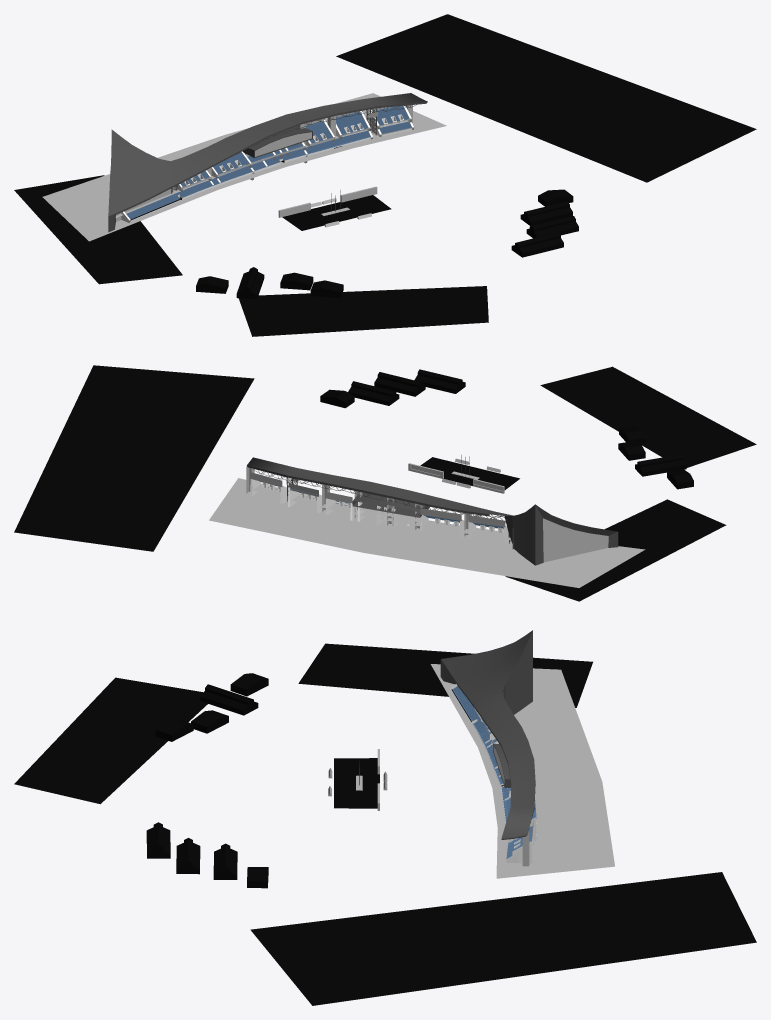
The model's file is buildings.fbx.
3 views of the same model, one above another, from view 1: azimuth 30°, elevation 25°; view 2: azimuth 150°, elevation 25°; view 3: azimuth 270°, elevation 25° (orthographic). The views are drawn at different scales.
Parts seen in each view (by area): view 1: track4, track2, roof_01, track3, floor, track5, house_1, house_4, glass, house_2, ads_gp, house_5 (+2 smaller); view 2: track4, floor, track2, track3, roof_01, glass, ads_gp, track5, roof_02, house_5, house_2, house_4 (+6 smaller); view 3: track4, floor, track2, roof_01, track3, track5, house_5, house_1, house_4, house_2, house_7.
Boxes of the visible parts, x1,y1,x2,y2 form: track4: (336,14,756,182); track2: (238,286,488,336); roof_01: (108,93,427,216); track3: (14,175,182,284); floor: (42,93,446,241); track5: (282,195,391,230); house_1: (511,232,563,257); house_4: (520,201,572,226); glass: (116,132,311,221); house_2: (526,216,578,238); ads_gp: (181,107,414,189); house_5: (236,267,264,298); track4: (14,365,254,551); floor: (209,478,645,587); track2: (540,366,756,467); track3: (505,499,726,601); roof_01: (247,457,617,565); glass: (543,518,608,562); ads_gp: (250,472,505,528); track5: (420,457,519,490); roof_02: (352,492,429,517); house_5: (635,454,686,476); house_2: (374,372,425,396); house_4: (348,381,399,405); track4: (250,872,756,1005); floor: (430,664,614,878); track2: (14,677,207,804); roof_01: (441,630,535,839); track3: (298,643,592,707); track5: (334,758,379,808); house_5: (200,684,258,715); house_1: (146,822,170,858); house_4: (213,843,237,879); house_2: (176,838,200,874); house_7: (230,673,268,696).
Bounding box in the file's own units: 8947 × 911 × 7753.
